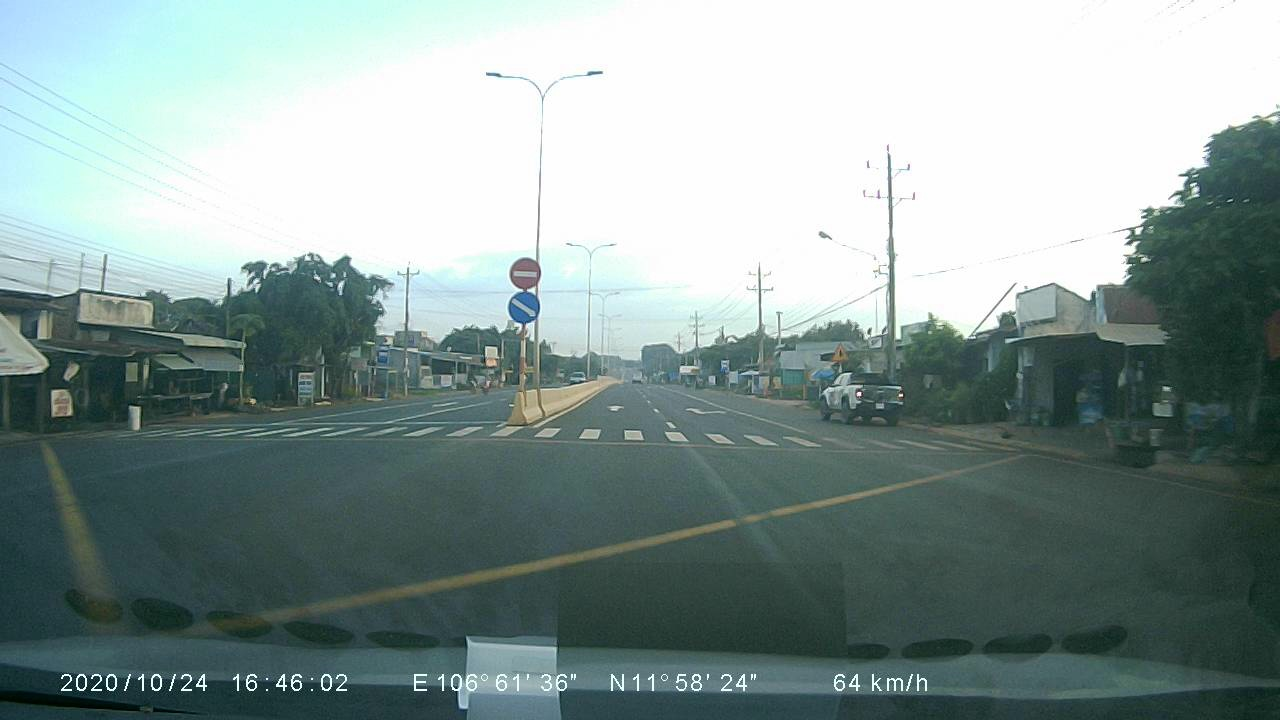Cam di nguoc chieu: (509, 252, 543, 289)
Huong di phai re phai: (505, 291, 540, 322)
